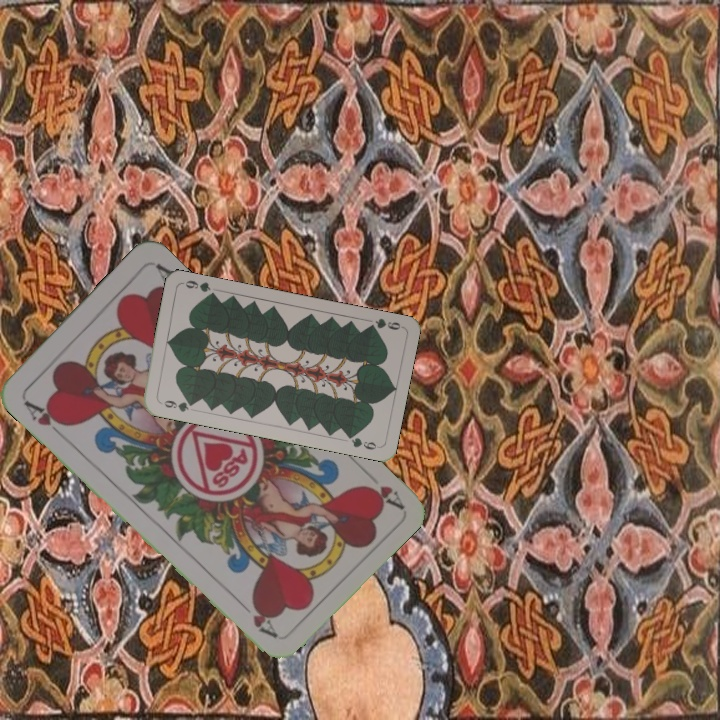G9: (363, 314, 405, 333), (156, 396, 197, 414)
HA: (358, 464, 406, 511), (20, 396, 71, 440)
